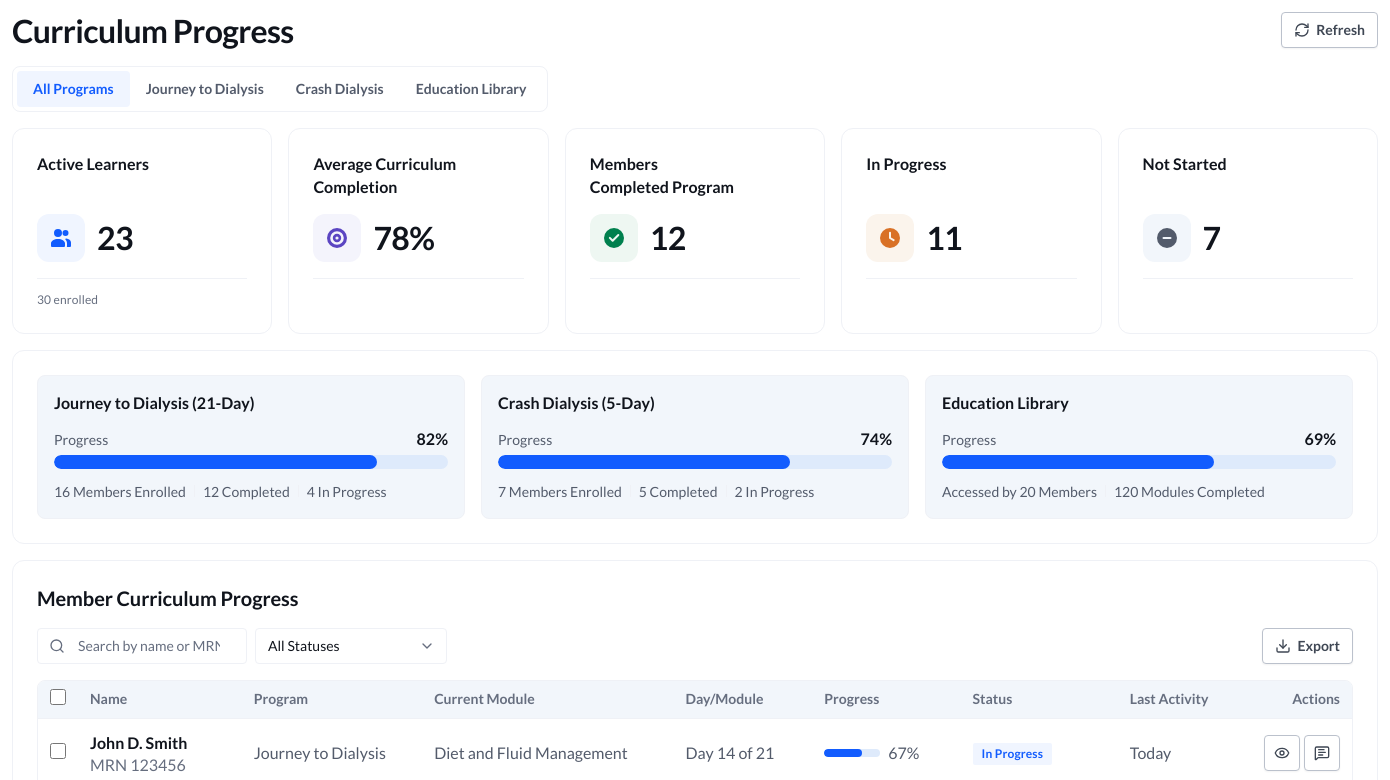
it: filtering › narrows the overview to the chosen course, and widens again
This screenshot has width=1390, height=780.
Check: the text "Journey to Dialysis (21-Day)" is shown, box [54,393,254,412]
Check: the text "Crash Dialysis (5-Day)" is shown, box [498,393,655,412]
Click the tab "Crash Dialysis": (340, 89) [280,71,400,107]
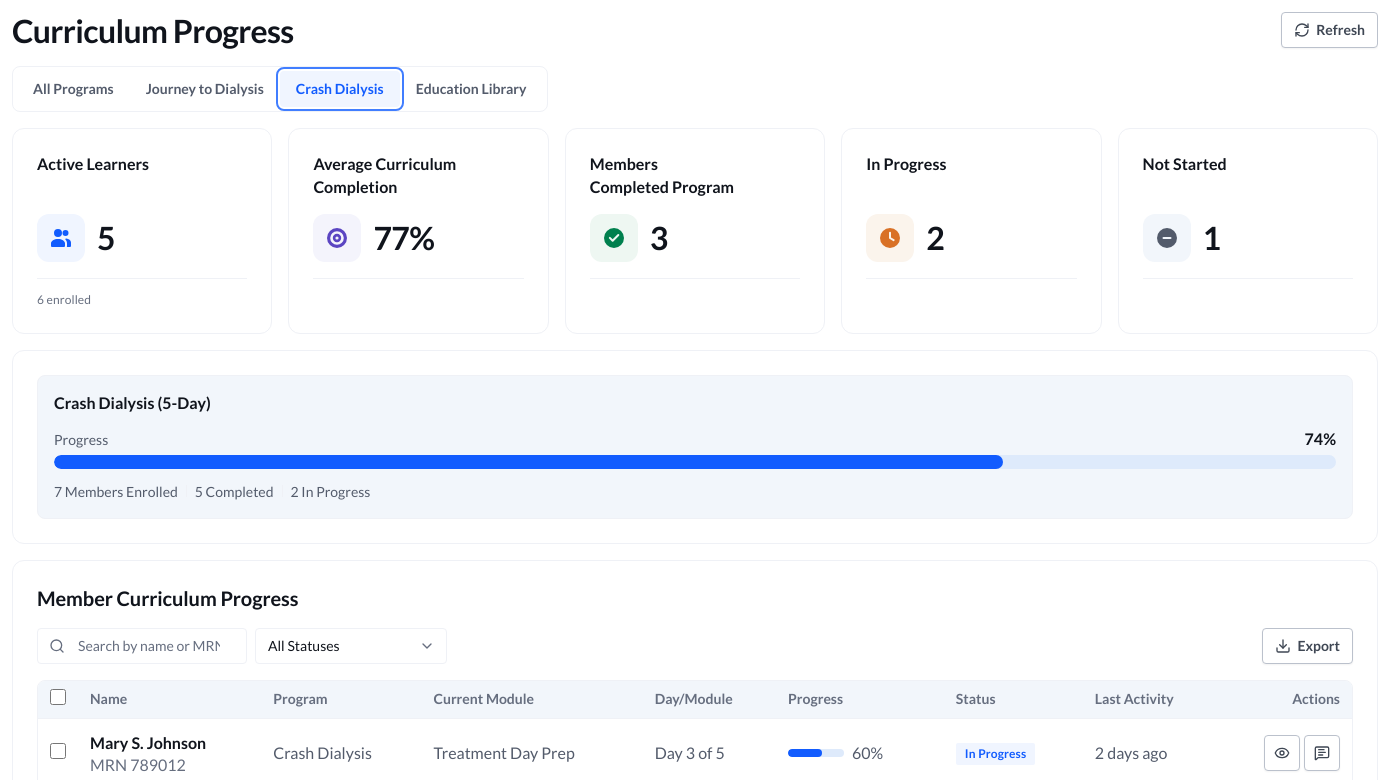
Check: the text "Crash Dialysis (5-Day)" is shown, box [54,393,211,412]
Check: the text "Journey to Dialysis (21-Day)" is not shown
Click the tab "All Programs": (73, 89) [17,71,130,107]
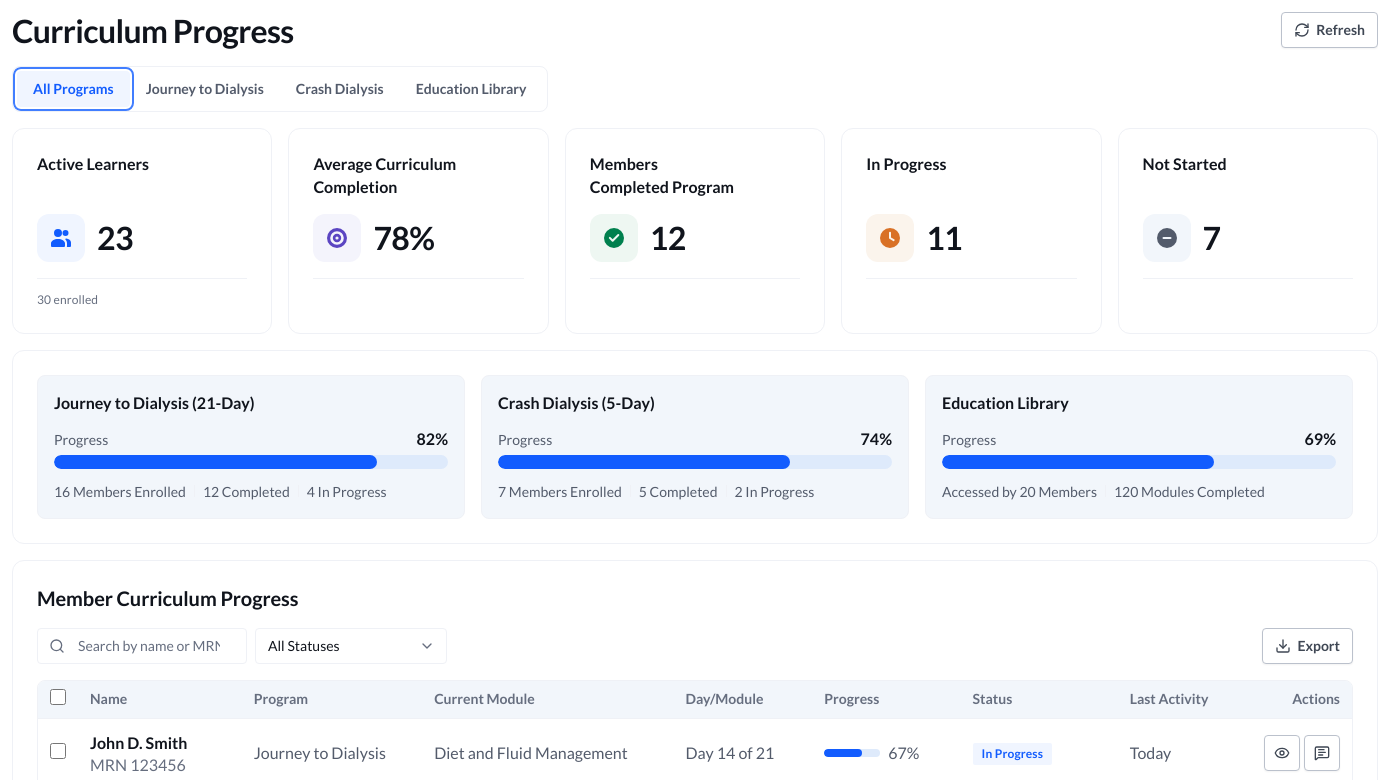
Check: the text "Journey to Dialysis (21-Day)" is shown, box [54,393,254,412]
